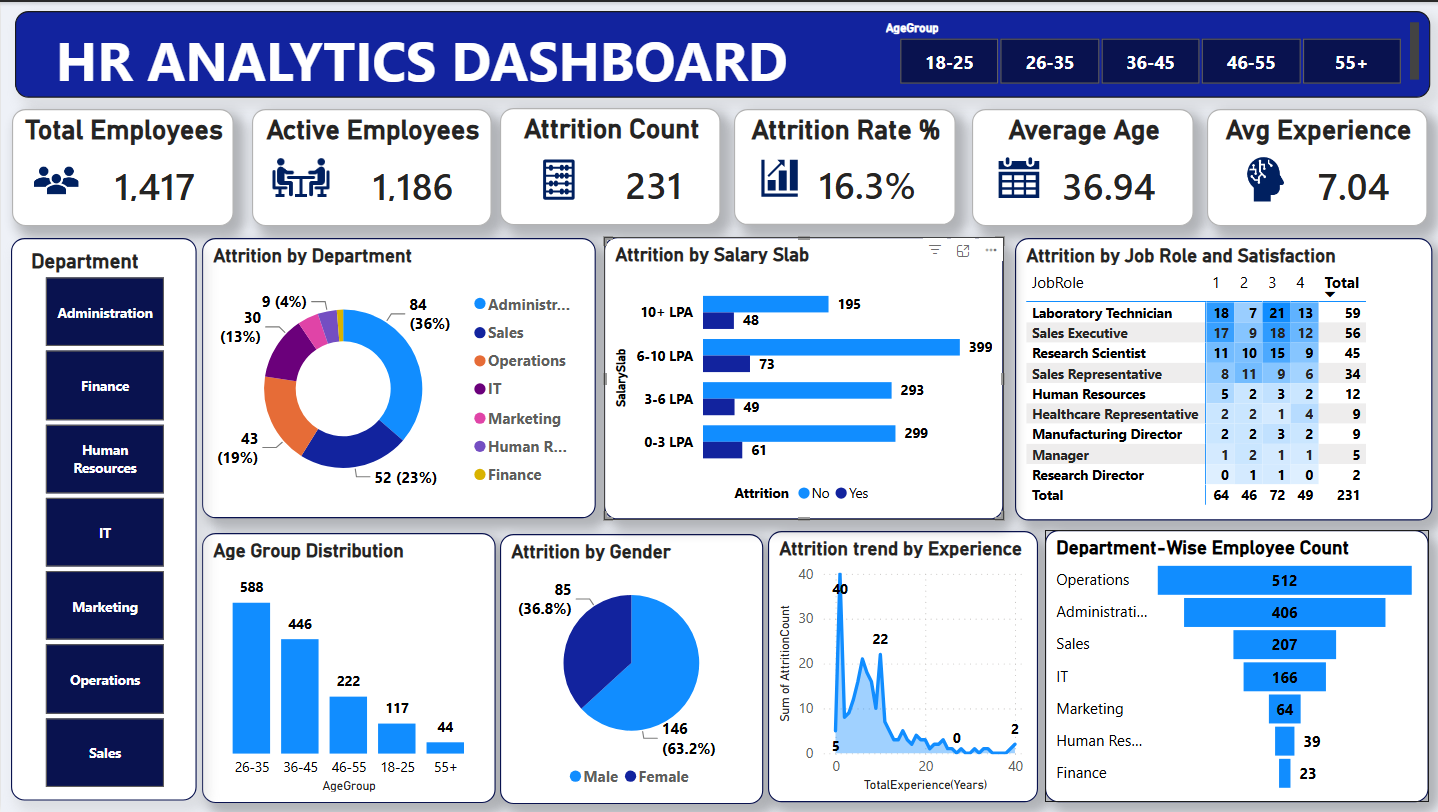

The page's visual inventory and layout, read from the dashboard file:
{"tool":"powerbi","page":{"name":"HR DASHBOARD","canvas":[1280,720],"ordinal":0},"visuals":[{"type":"textbox","box":[12,7.9,1257.9,77.2],"z":0},{"type":"cardVisual","title":"Total Employees","fields":{"Data":["CountNonNull(HR_Analytics-4.EmpID)"]},"box":[10,95,197,104],"z":2000},{"type":"cardVisual","title":"Active Employees","fields":{"Data":["CountNonNull(HR_Analytics-4.EmployeeCount)"]},"box":[222.7,95.3,213,104.1],"z":3000},{"type":"cardVisual","title":"Attrition Count","fields":{"Data":["Sum(HR_Analytics-4.AttritionCount)"]},"box":[443.5,94.3,196.5,104.1],"z":4000},{"type":"cardVisual","title":"Attrition Rate %","fields":{"Data":["HR_Analytics-4.Attrition Rate %"]},"box":[651.2,95,196.9,102.9],"z":5000},{"type":"cardVisual","title":"Average Age","fields":{"Data":["Avg(HR_Analytics-4.Age)"]},"box":[862.7,95.3,197.4,104.1],"z":6000},{"type":"cardVisual","title":"Avg Experience","fields":{"Data":["Avg(HR_Analytics-4.YearsatCompany)"]},"box":[1071.9,95.3,196.5,104.1],"z":7000},{"type":"image","box":[18.5,136.2,60.3,44.7],"z":8000},{"type":"image","box":[669.2,126.4,44.7,61.3],"z":9000},{"type":"image","box":[234.4,112.8,64.2,85.6],"z":10000},{"type":"image","box":[1087.4,134.2,73.9,46.7],"z":11000},{"type":"image","box":[457.1,137.1,78.8,41.8],"z":12000},{"type":"image","box":[861.8,130.3,87.5,50.6],"z":13000},{"type":"donutChart","title":"Attrition by Department","fields":{"Category":["HR_Analytics-4.Department"],"Y":["Sum(HR_Analytics-4.AttritionCount)"]},"box":[179,210,350,249],"z":14000},{"type":"clusteredBarChart","title":"Attrition by Salary Slab","fields":{"Category":["HR_Analytics-4.SalarySlab"],"Series":["HR_Analytics-4.Attrition"],"Y":["CountNonNull(HR_Analytics-4.EmpID)"]},"box":[536.4,208.8,355.3,251.4],"z":15000},{"type":"pivotTable","title":"Attrition by Job Role and Satisfaction","fields":{"Columns":["HR_Analytics-4.JobSatisfaction"],"Rows":["HR_Analytics-4.JobRole"],"Values":["Sum(HR_Analytics-4.AttritionCount)"]},"box":[901.6,210.1,371,251],"z":16000},{"type":"columnChart","title":"Age Group Distribution","fields":{"Category":["HR_Analytics-4.AgeGroup"],"Y":["Sum(HR_Analytics-4.EmployeeCount)"]},"box":[179.1,472.2,261.3,240.1],"z":17000},{"type":"pieChart","title":"Attrition by Gender","fields":{"Category":["HR_Analytics-4.Gender"],"Y":["Sum(HR_Analytics-4.AttritionCount)"]},"box":[443.4,473.1,233.6,239.5],"z":18000},{"type":"areaChart","title":"Attrition trend by Experience","fields":{"Category":["HR_Analytics-4.TotalExperience(Years)"],"Y":["Sum(HR_Analytics-4.AttritionCount)"]},"box":[681.9,470.1,239.5,241.5],"z":19000},{"type":"funnel","title":"Department-Wise Employee Count","fields":{"Category":["HR_Analytics-4.Department"],"Y":["CountNonNull(HR_Analytics-4.EmpID)"]},"box":[928,469,341,242],"z":20000},{"type":"slicer","fields":{"Values":["HR_Analytics-4.Department"]},"box":[9,209.6,165,500],"z":21000},{"type":"slicer","fields":{"Values":["HR_Analytics-4.AgeGroup"]},"box":[773.3,11.7,495.1,68.1],"z":22000}]}

Visuals, with their boxes in screenshot pixels (x1, y1, x2, y2), scaled from the page's 1280x720 canvas onto the 1438x812 screenshot:
textbox: detection(13, 9, 1427, 96)
"Total Employees" cardVisual: detection(11, 107, 233, 224)
"Active Employees" cardVisual: detection(250, 107, 489, 225)
"Attrition Count" cardVisual: detection(498, 106, 719, 224)
"Attrition Rate %" cardVisual: detection(732, 107, 953, 223)
"Average Age" cardVisual: detection(969, 107, 1191, 225)
"Avg Experience" cardVisual: detection(1204, 107, 1425, 225)
image: detection(21, 154, 89, 204)
image: detection(752, 143, 802, 212)
image: detection(263, 127, 335, 224)
image: detection(1222, 151, 1305, 204)
image: detection(514, 155, 602, 202)
image: detection(968, 147, 1066, 204)
"Attrition by Department" donutChart: detection(201, 237, 594, 518)
"Attrition by Salary Slab" clusteredBarChart: detection(603, 235, 1002, 519)
"Attrition by Job Role and Satisfaction" pivotTable: detection(1013, 237, 1430, 520)
"Age Group Distribution" columnChart: detection(201, 533, 495, 803)
"Attrition by Gender" pieChart: detection(498, 534, 761, 804)
"Attrition trend by Experience" areaChart: detection(766, 530, 1035, 803)
"Department-Wise Employee Count" funnel: detection(1043, 529, 1426, 802)
slicer - HR_Analytics-4.Department: detection(10, 236, 195, 800)
slicer - HR_Analytics-4.AgeGroup: detection(869, 13, 1425, 90)
